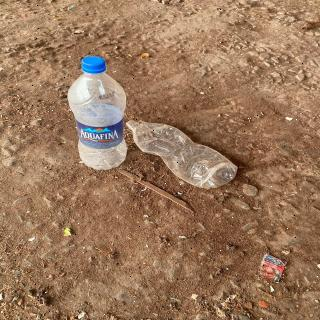Plastic-bottle: (125, 117, 243, 193), (64, 55, 132, 173)
